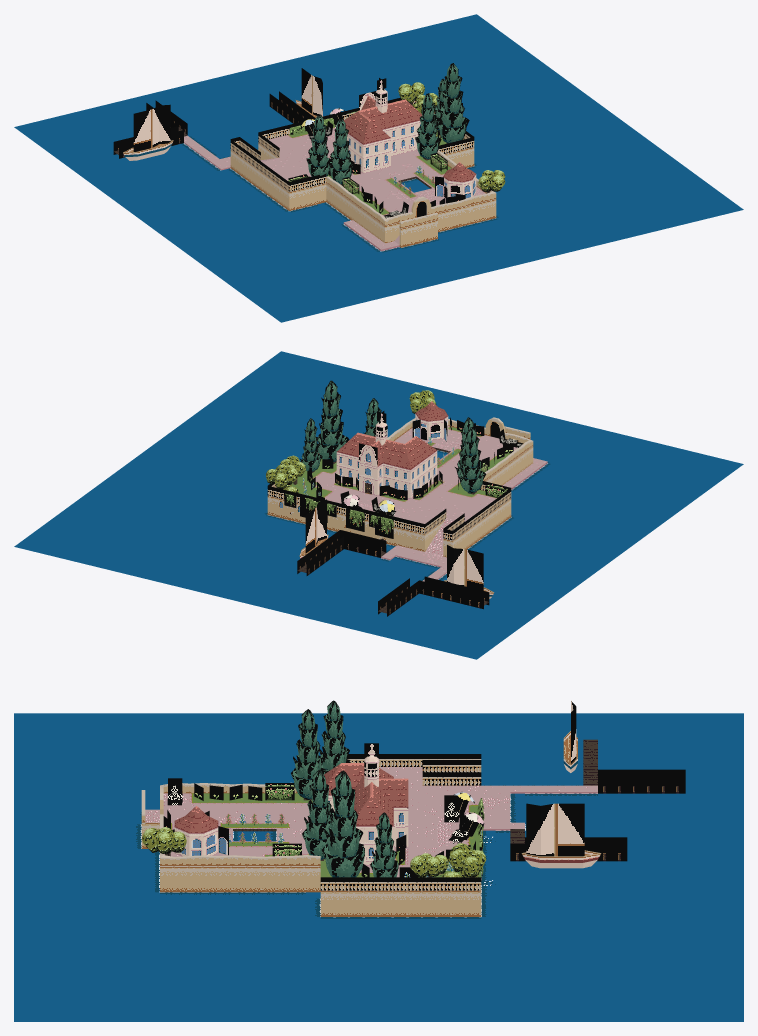
The model's file is level.glb.
3 renders of one model, top to bottom at view 1: azimuth 30°, elevation 25°; view 2: azimuth 150°, elevation 25°; view 3: azimuth 270°, elevation 25°, orthographic. The views are drawn at different scales.
Visible parts, largest first — view 1: Cube, Cube.005, Cube.006, Cube.011, Cube.023, Cube.027, Cube.015, Cube.010, Cube.009, Cube.043, Cube.029, Cube.037 (+4 smaller); view 2: Cube, Cube.006, Cube.005, Cube.011, Cube.010, Cube.073, Cube.027, Cube.023, Cube.043, Cube.036, Cube.022, Cube.007 (+4 smaller); view 3: Cube, Cube.005, Cube.006, Cube.010, Cube.022, Cube.011, Cube.027, Cube.009, Cube.007, Cube.073, Cube.043, Cube.037 (+8 smaller).
Boxes of the visible parts, <box> form: Cube: <box>14,14,743,322</box>; Cube.005: <box>230,97,496,243</box>; Cube.006: <box>239,104,485,217</box>; Cube.011: <box>343,91,422,173</box>; Cube.023: <box>123,104,173,160</box>; Cube.027: <box>437,63,469,143</box>; Cube.015: <box>343,212,437,251</box>; Cube.010: <box>113,91,315,158</box>; Cube.009: <box>326,150,496,225</box>; Cube.043: <box>435,162,476,198</box>; Cube.029: <box>415,93,441,160</box>; Cube.037: <box>328,118,354,184</box>; Cube: <box>14,351,743,659</box>; Cube.006: <box>291,426,522,556</box>; Cube.005: <box>267,446,533,557</box>; Cube.011: <box>336,432,437,498</box>; Cube.010: <box>297,530,489,616</box>; Cube.073: <box>302,417,513,499</box>; Cube.027: <box>317,380,349,463</box>; Cube.023: <box>444,545,494,598</box>; Cube.043: <box>412,401,448,441</box>; Cube.036: <box>458,427,486,494</box>; Cube.022: <box>299,499,328,558</box>; Cube.007: <box>381,545,446,581</box>; Cube: <box>14,713,743,1021</box>; Cube.005: <box>160,754,481,916</box>; Cube.006: <box>163,760,481,877</box>; Cube.010: <box>510,739,685,861</box>; Cube.022: <box>521,803,601,868</box>; Cube.011: <box>324,763,408,865</box>; Cube.027: <box>321,770,364,877</box>; Cube.009: <box>160,782,320,865</box>; Cube.007: <box>481,785,597,830</box>; Cube.073: <box>163,783,475,877</box>; Cube.043: <box>174,806,228,856</box>; Cube.037: <box>291,709,325,800</box>.
Bounding box in the file's own units: 50 × 11.24 × 50.
2 materials, 2 textured.
